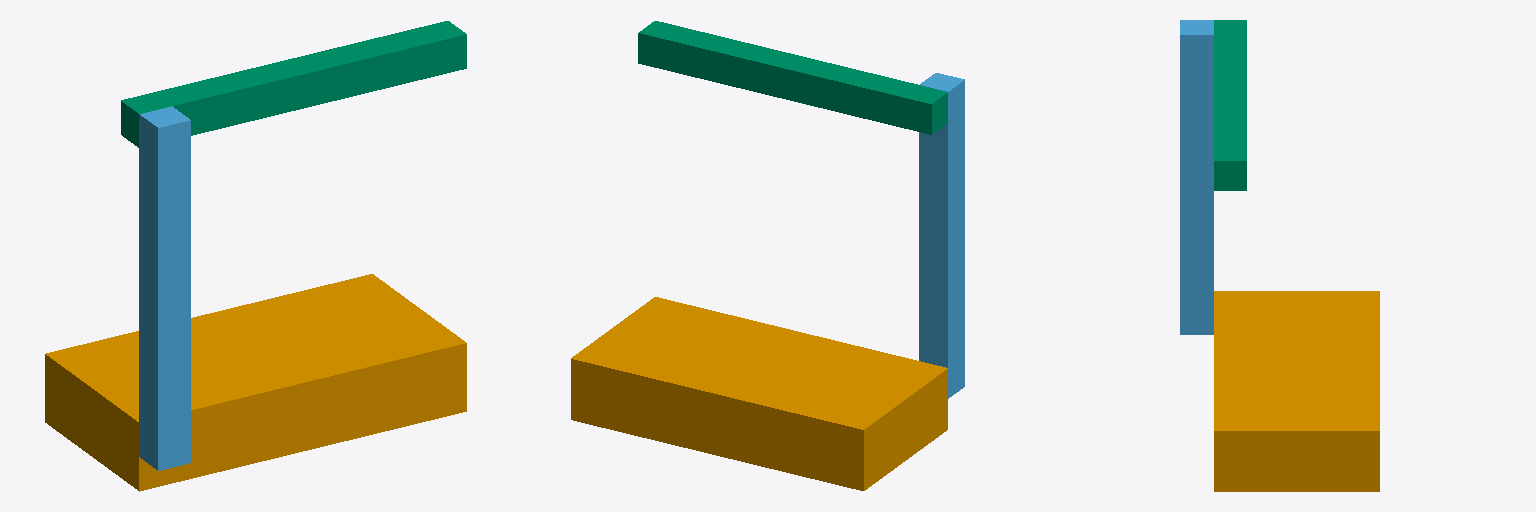
The robot description file, URDF, robot "sample1":
<?xml version="1.0"?>
<robot name="sample1">
  <link name="base_link">
    <visual name="visual">
      <origin xyz="0 0 0.01" rpy="0 0 0"/>
      <geometry>
	<box size="0.1 0.05 0.02"/>
      </geometry>
    </visual>
    <collision name="collision">
      <origin xyz="0 0 0.01" rpy="0 0 0"/>
      <geometry>
	<box size="0.1 0.05 0.02"/>
      </geometry>
    </collision>
    <inertial>
      <origin xyz="0 0 0.01" rpy="0 0 0"/>
      <mass value="0.1"/>
      <inertia ixx="0.000025" iyy="0.00009" izz="0.000105" ixy="0" iyz="0" ixz="0"/>
    </inertial>
  </link>

  <joint name="ld_hinge" type="revolute">
    <origin xyz="-0.045 -0.025 0.015" rpy="0 0 0"/>
    <parent link="base_link"/>
    <child link="left"/>
    <axis xyz="0 1 0"/>
    <limit effort="0.4" velocity="1.5707" lower="-1.5707" upper="1.5707" />
  </joint>

  <link name="left">
    <visual name="visual">
      <origin xyz="0 -0.005 0.045" rpy="0 0 0"/>
      <geometry>
	<box size="0.01 0.01 0.1"/>
      </geometry>
    </visual>
    <collision name="collision">
      <origin xyz="0 -0.005 0.045" rpy="0 0 0"/>
      <geometry>
	<box size="0.01 0.01 0.1"/>
      </geometry>
    </collision>
    <inertial>
      <origin xyz="0 -0.005 0.045" rpy="0 0 0"/>
      <mass value="0.01"/>
      <inertia ixx="0.0000085" iyy="0.0000085" izz="0.0000002"  ixy="0" iyz="0" ixz="0"/>
    </inertial>
  </link>

  <joint name="lu_hinge" type="revolute">
    <origin xyz="0 0 0.09" rpy="0 0 0"/>
    <parent link="left"/>
    <child link="top"/>
    <axis xyz="0 1 0"/>
    <limit effort="0" velocity="1.5707" lower="-1.5707" upper="1.5707" />
  </joint>

  <link name="top">
    <visual name="visual">
      <origin xyz="0.045 0.005 0" rpy="0 0 0"/>
      <geometry>
	<box size="0.1 0.01 0.01"/>
      </geometry>
    </visual>
    <collision name="collision">
      <origin xyz="0.045 0.005 0" rpy="0 0 0"/>
      <geometry>
	<box size="0.1 0.01 0.01"/>
      </geometry>
    </collision>
    <inertial>
      <origin xyz="0.045 0.005 0" rpy="0 0 0"/>
      <mass value="0.01"/>
      <inertia ixx="0.0000002" iyy="0.0000085" izz="0.0000085" ixy="0" iyz="0" ixz="0"/>
    </inertial>
  </link>
  
  <transmission name="tran_ld">
      <type>transmission_interface/SimpleTransmission</type>
      <joint name="ld_hinge">
    	<hardwareInterface>hardware_interface/PositionJointInterface</hardwareInterface>
      </joint>
      <actuator name="motor_ld">
    	<hardwareInterface>hardware_interface/PositionJointInterface</hardwareInterface>
    	<mechanicalReduction>1</mechanicalReduction>
      </actuator>
  </transmission>

  <transmission name="tran_lu">
      <type>transmission_interface/SimpleTransmission</type>
      <joint name="lu_hinge">
    	<hardwareInterface>hardware_interface/PositionJointInterface</hardwareInterface>
      </joint>
      <actuator name="motor_ld">
    	<hardwareInterface>hardware_interface/PositionJointInterface</hardwareInterface>
    	<mechanicalReduction>1</mechanicalReduction>
      </actuator>
  </transmission>
</robot>

--- What the picture shows (computed from the rendered views, not written in the file) ---
Views: 3 orthographic renders of the robot side by side, from view 1: azimuth 30°, elevation 25°; view 2: azimuth 150°, elevation 25°; view 3: azimuth 270°, elevation 25°.
Robot: sample1 — 3 links, 2 joints (2 revolute); root link base_link; default pose: all joints at 0.
Visible links, largest first — view 1: base_link, left, top; view 2: base_link, top, left; view 3: base_link, left, top.
Link boxes in pixels (x1,y1,x2,y2): base_link: [45, 274, 466, 491]; left: [139, 106, 190, 470]; top: [121, 21, 466, 147]; base_link: [571, 297, 947, 490]; top: [638, 21, 947, 134]; left: [919, 73, 964, 398]; base_link: [1214, 291, 1379, 491]; left: [1180, 20, 1213, 334]; top: [1214, 20, 1246, 190].
Size in the robot's own frame: 0.1 by 0.06 by 0.11 metres.
Geometry: primitives only (box / cylinder / sphere), no mesh files.
